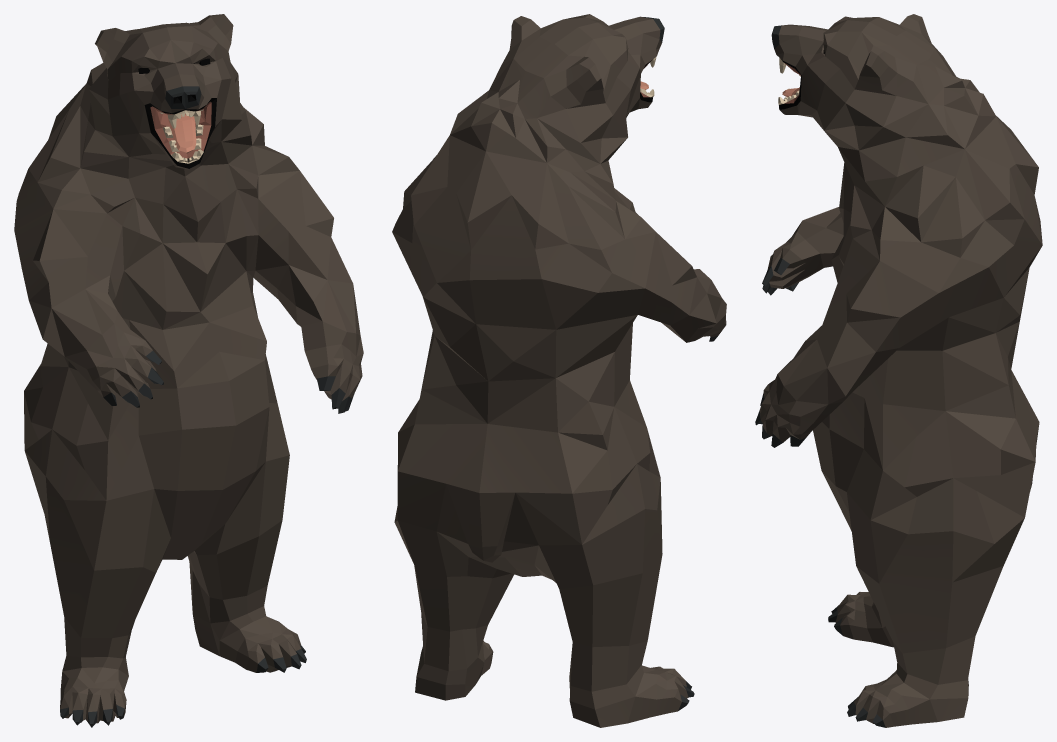
File: SM_Prop_Bear_Statue_01.obj
The picture shows the model from 3 angles, left to right: view 1: azimuth 30°, elevation 25°; view 2: azimuth 150°, elevation 25°; view 3: azimuth 270°, elevation 25°; orthographic projection. The views are drawn at different scales.
Visible parts, largest first — view 1: SM_Prop_Bear_Statue_01_0; view 2: SM_Prop_Bear_Statue_01_0; view 3: SM_Prop_Bear_Statue_01_0.
Boxes of the visible parts, left/top/right/bottom form: SM_Prop_Bear_Statue_01_0: left=14, top=14, right=363, bottom=727; SM_Prop_Bear_Statue_01_0: left=392, top=14, right=726, bottom=727; SM_Prop_Bear_Statue_01_0: left=755, top=14, right=1042, bottom=727.
Size of the model in its own units: 1.45 by 3.1 by 1.26.
1 material, 1 textured.
